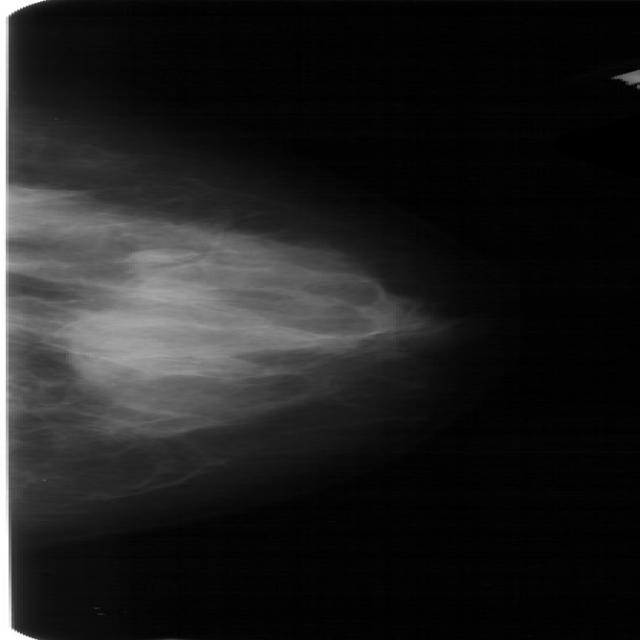tumour: (124, 247, 195, 263)
